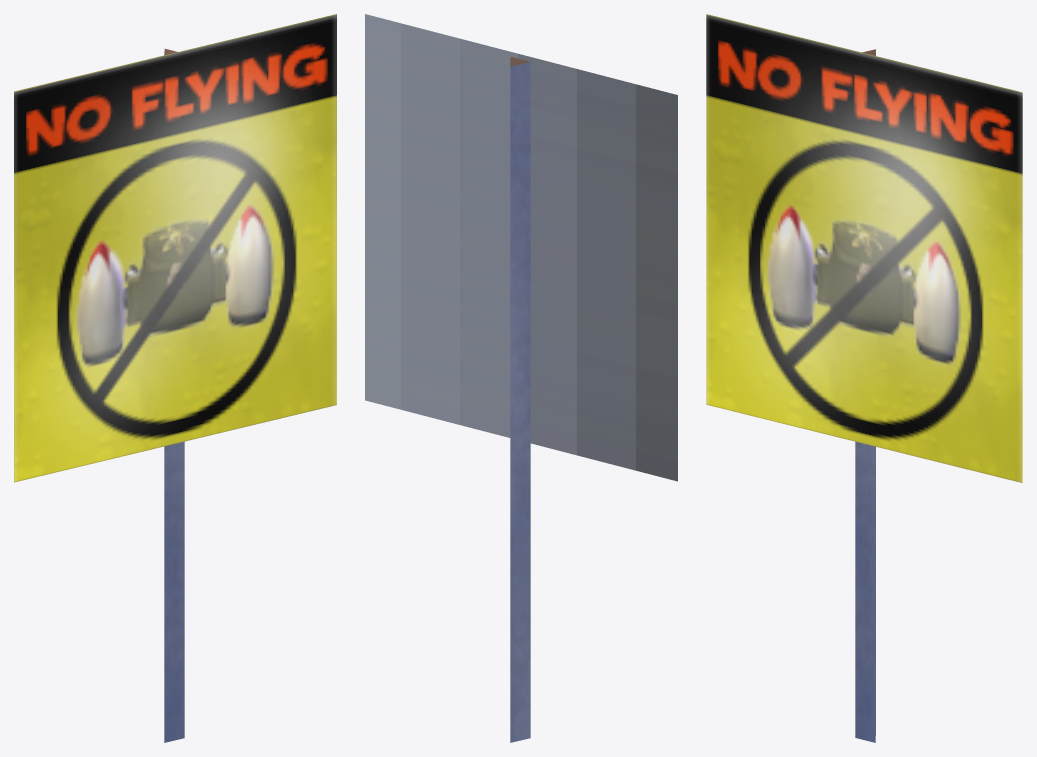
Rendered from noflysign01.glb.
3 renders of one model, left to right at view 1: azimuth 30°, elevation 25°; view 2: azimuth 150°, elevation 25°; view 3: azimuth 330°, elevation 25°, orthographic.
Parts seen in each view (by area): view 1: noflysign01; view 2: noflysign01; view 3: noflysign01.
Boxes of the visible parts, box(x1,y1,x2,y2) form: noflysign01: box(14, 14, 336, 742); noflysign01: box(365, 14, 677, 742); noflysign01: box(706, 14, 1022, 742).
Size of the model in its own units: 204 by 421 by 14.09.
5 materials, 5 textured.
